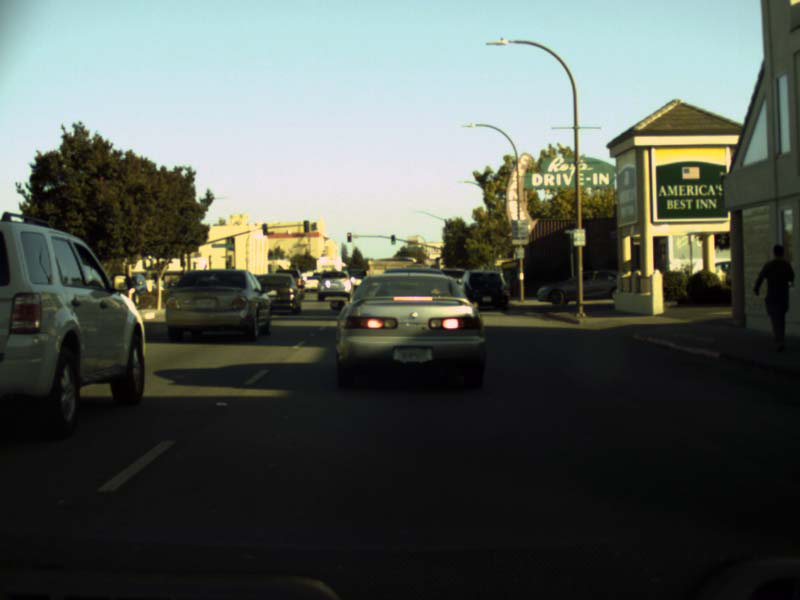Green: (390, 234, 395, 244)
Red: (346, 232, 352, 242)
